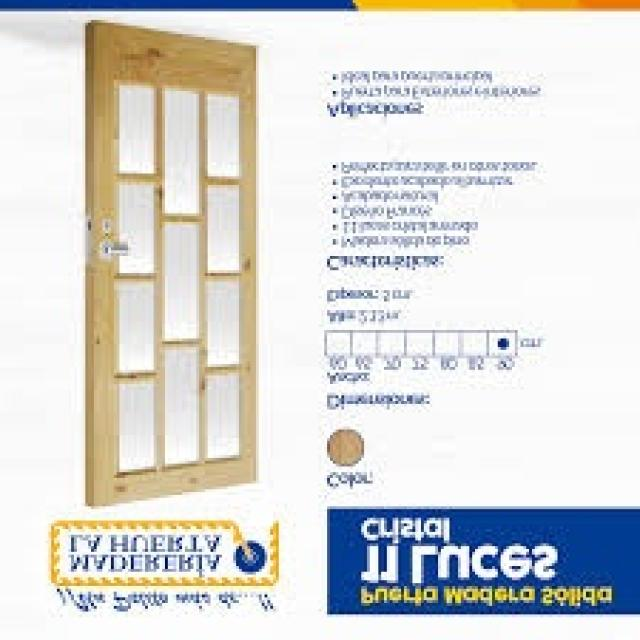door: (84, 22, 260, 510)
